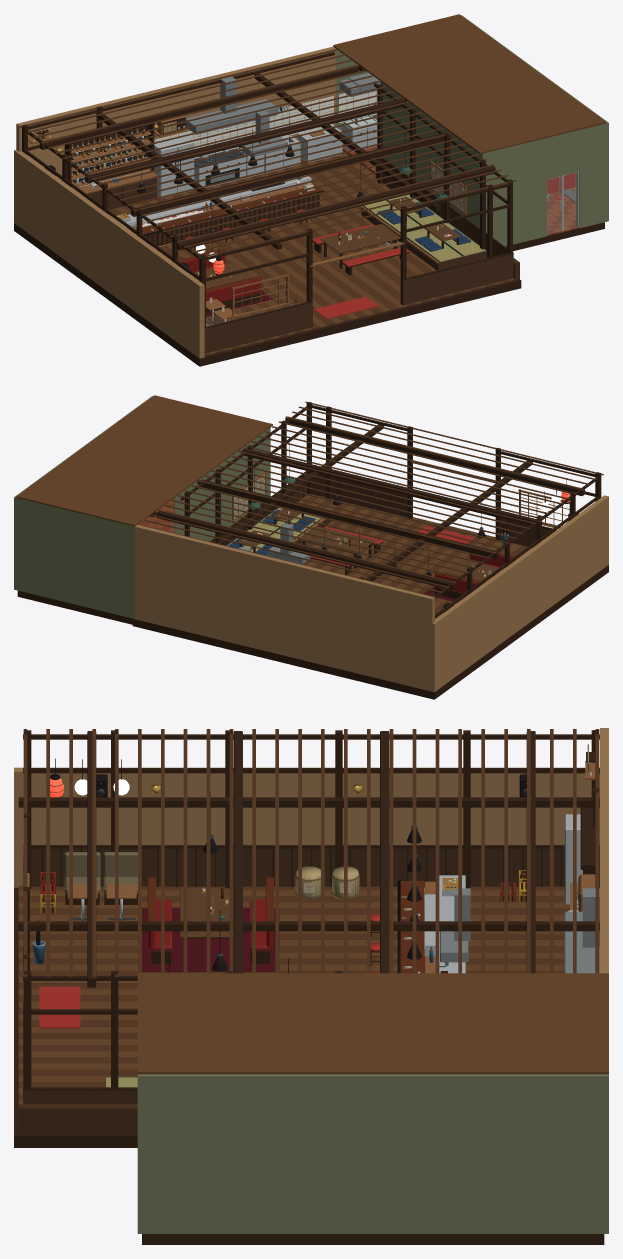
File: minato-interior.glb
The picture shows the model from 3 angles, top to bottom: view 1: azimuth 30°, elevation 25°; view 2: azimuth 150°, elevation 25°; view 3: azimuth 270°, elevation 25°; orthographic projection. The views are drawn at different scales.
Parts seen in each view (by area): view 1: minato-interior / Minato matte, minato-interior / Minato steel, minato-interior / Minato glossy, minato-interior / Minato glass; view 2: minato-interior / Minato matte, minato-interior / Minato glossy, minato-interior / Minato steel; view 3: minato-interior / Minato matte, minato-interior / Minato glossy, minato-interior / Minato steel.
Boxes of the visible parts, x1,y1,x2,y2 form: minato-interior / Minato matte: [14, 14, 608, 366]; minato-interior / Minato steel: [56, 72, 578, 324]; minato-interior / Minato glossy: [33, 91, 576, 318]; minato-interior / Minato glass: [143, 173, 576, 276]; minato-interior / Minato matte: [14, 395, 608, 699]; minato-interior / Minato glossy: [248, 441, 578, 618]; minato-interior / Minato steel: [238, 495, 519, 572]; minato-interior / Minato matte: [14, 728, 608, 1244]; minato-interior / Minato glossy: [33, 758, 591, 1028]; minato-interior / Minato steel: [69, 783, 599, 973].
Size of the model in its own units: 18.1 by 4.17 by 13.
